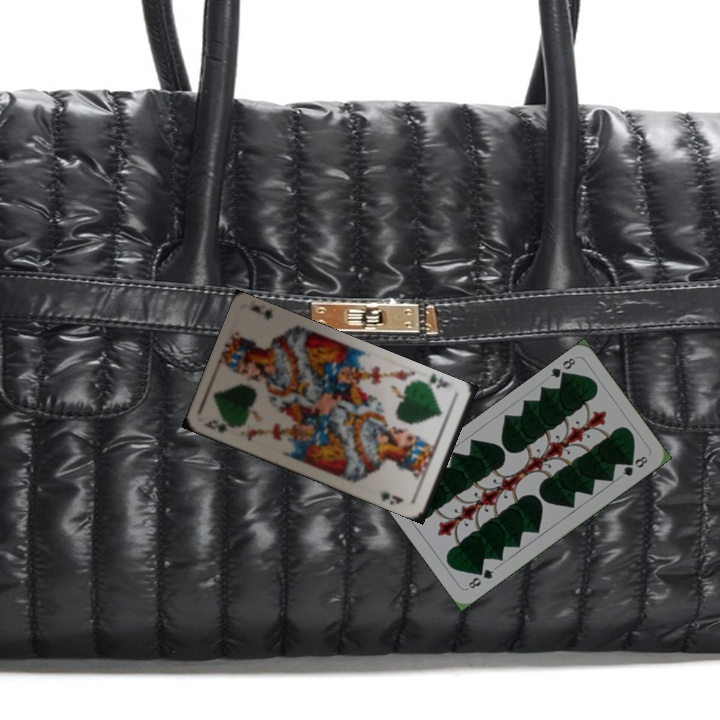G8: (546, 353, 579, 383), (464, 565, 497, 591)
GK: (419, 371, 453, 393), (200, 416, 230, 436)
